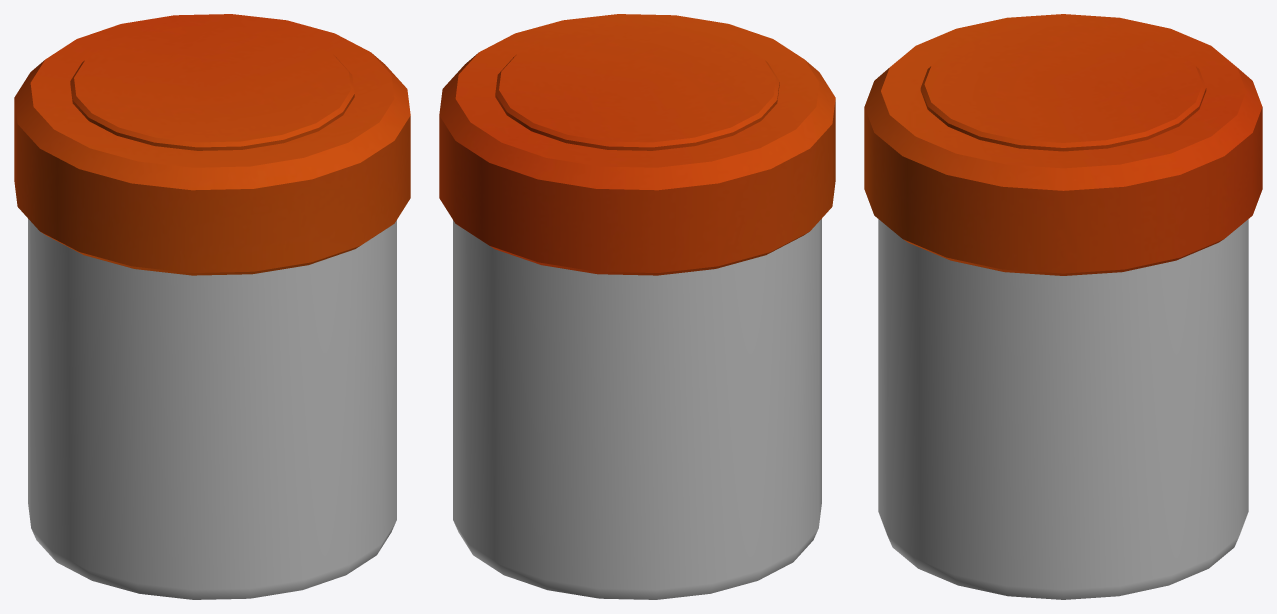
Rendered from Food.fbx.
3 views of the same model, side by side, from view 1: azimuth 30°, elevation 25°; view 2: azimuth 150°, elevation 25°; view 3: azimuth 270°, elevation 25° (orthographic).
Parts seen in each view (by area): view 1: Fish_Food; view 2: Fish_Food; view 3: Fish_Food.
Part boxes in pixels (bbox=[...]): Fish_Food: bbox=[14, 14, 410, 599]; Fish_Food: bbox=[439, 14, 835, 599]; Fish_Food: bbox=[864, 14, 1262, 599].
Size of the model in its own units: 2.15 by 2.65 by 2.15.
